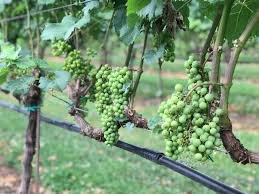grapes: (181, 53, 224, 159), (92, 63, 136, 154), (160, 83, 189, 161), (63, 51, 94, 83)
